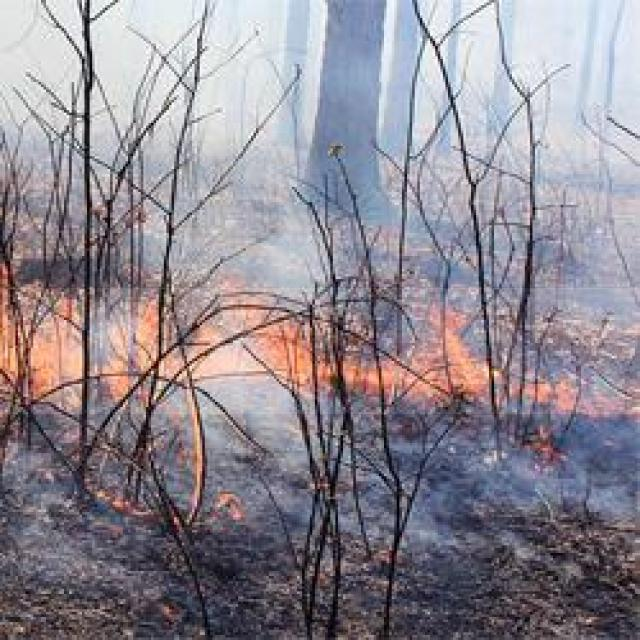Fire: (0, 288, 640, 414)
